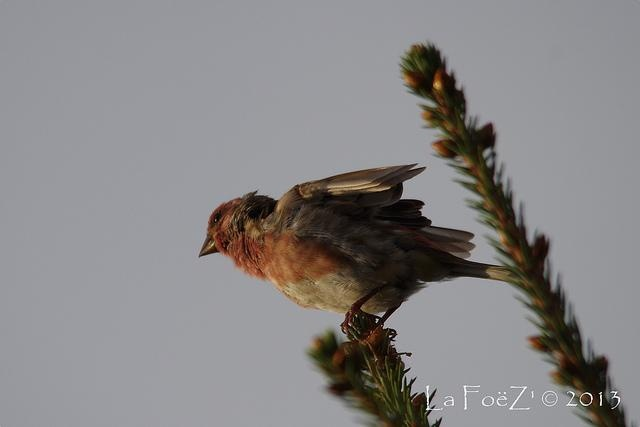bird: (196, 160, 518, 339)
